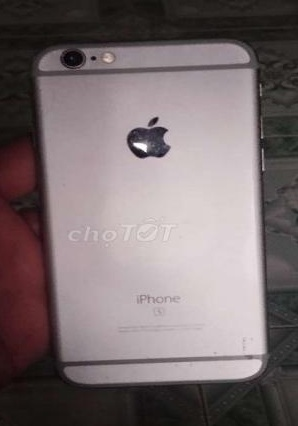scratch: (203, 328, 284, 375), (77, 362, 127, 390)
